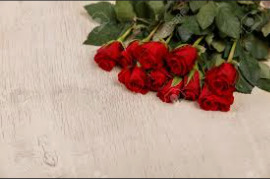RedRose: (205, 61, 240, 96), (132, 39, 169, 70), (98, 36, 127, 74), (169, 42, 200, 75)
